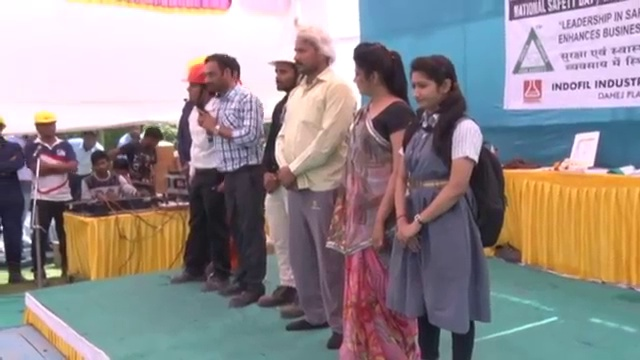helmet: (179, 64, 219, 86), (266, 42, 299, 64), (34, 110, 58, 127), (0, 113, 7, 132)
helmet_off: (405, 53, 462, 120), (347, 41, 403, 109), (288, 26, 335, 76), (200, 57, 241, 96), (90, 151, 112, 179), (141, 128, 163, 150), (81, 132, 97, 153), (128, 125, 143, 139)
helmet_on: (266, 44, 299, 97), (179, 65, 219, 106), (34, 109, 59, 141), (0, 113, 7, 140)
person: (394, 52, 513, 360), (271, 19, 361, 347), (333, 46, 415, 359), (198, 53, 267, 300), (255, 42, 307, 317), (174, 65, 232, 296), (23, 108, 78, 286), (1, 113, 27, 287), (79, 151, 140, 203), (107, 128, 163, 183), (66, 133, 105, 202), (115, 124, 145, 149)
